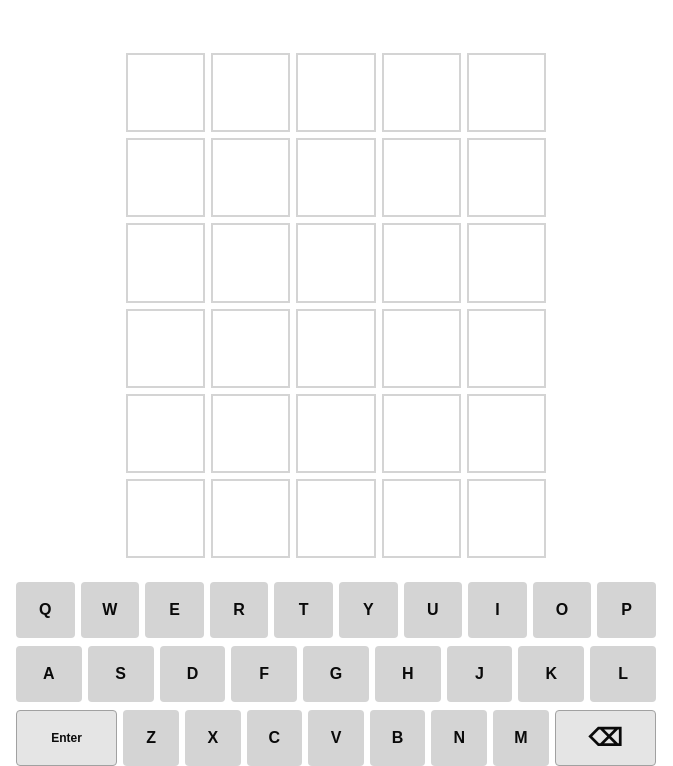
WordleGameBoard › reconciles stale state without animation and preserves a playable typed word
(page scrolled)
What coordinates should you click on to do the following:
click the button "B"
I would click on:
 (398, 738)
Its box is [370, 710, 425, 765].
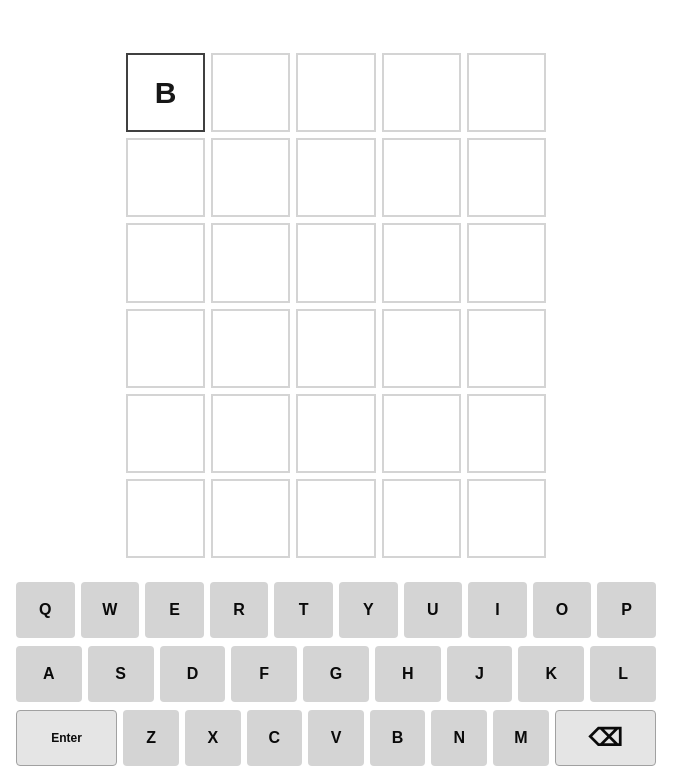
What coordinates should you click on to do the following:
click the button "L"
I would click on:
 (623, 674)
Its box is [590, 646, 656, 702].
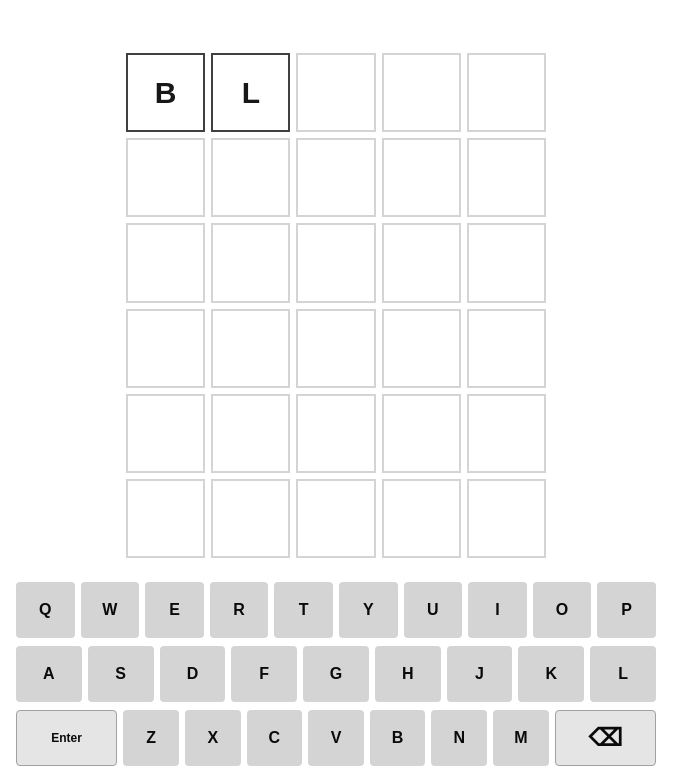
What coordinates should you click on to do the following:
click the button "O"
I would click on:
 (562, 610)
Its box is [533, 582, 591, 638].
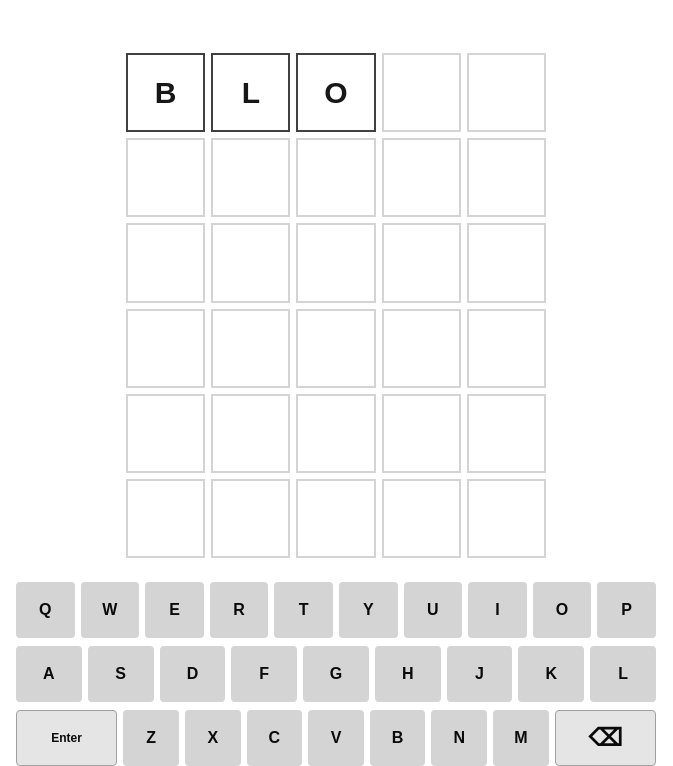
What coordinates should you click on to do the following:
click the button "A"
I would click on:
 (49, 674)
Its box is [16, 646, 82, 702].
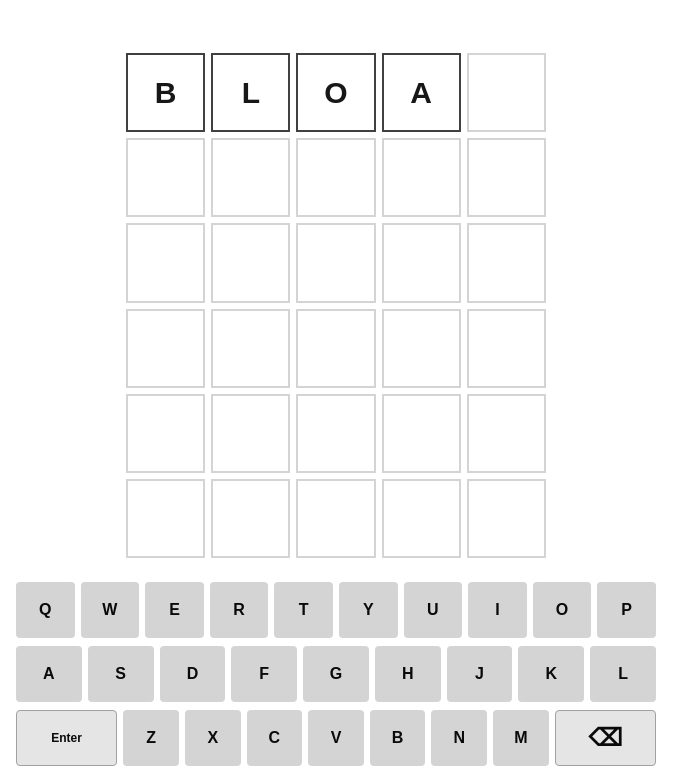
What coordinates should you click on to do the following:
click the button "T"
I would click on:
 (304, 610)
Its box is [274, 582, 333, 638].
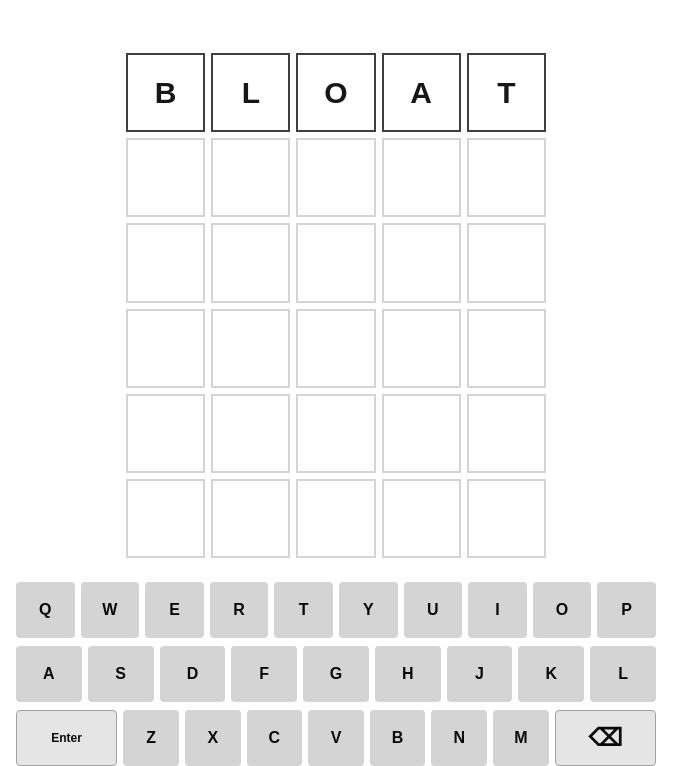
What coordinates should you click on to do the following:
click the button "Enter"
I would click on:
 (67, 738)
Its box is [16, 710, 117, 765].
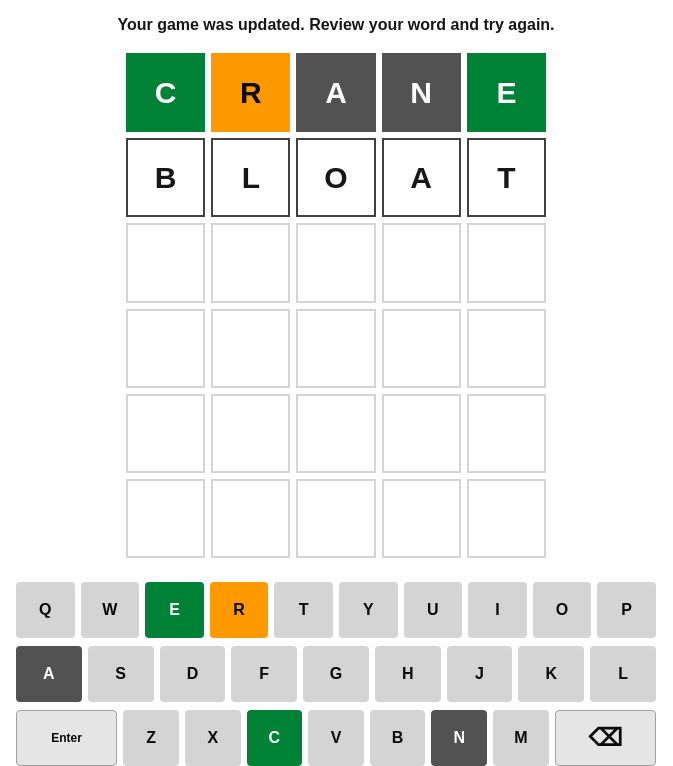
Now the text "Your game was updated. Review your word and try again." is shown, box [117, 16, 554, 33]
Now the element named "Current guess: BLOAT" is shown, box [126, 138, 546, 217]
